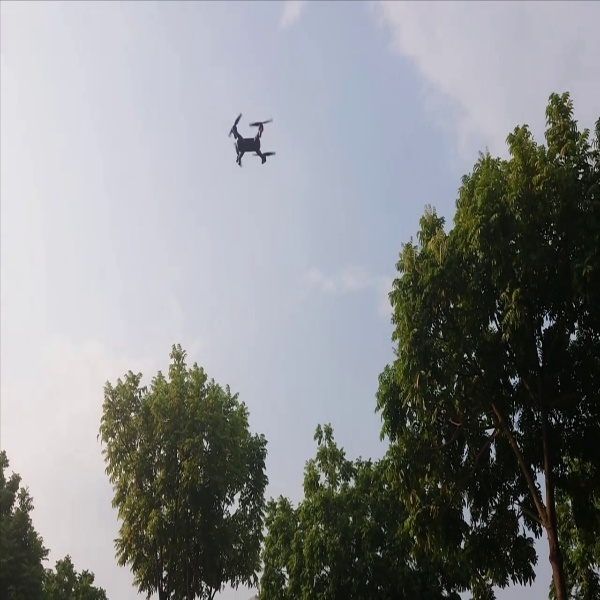drone: (218, 104, 289, 176)
